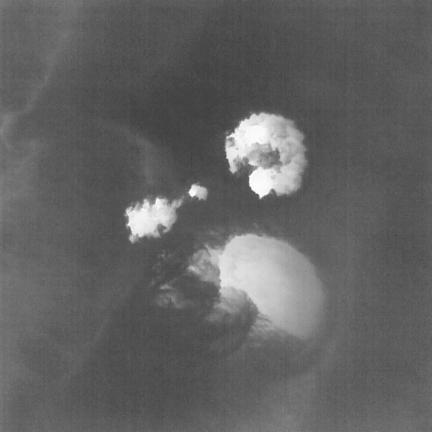flukeprints: (219, 234, 324, 339), (225, 112, 306, 198), (126, 196, 184, 242), (189, 184, 208, 199)
